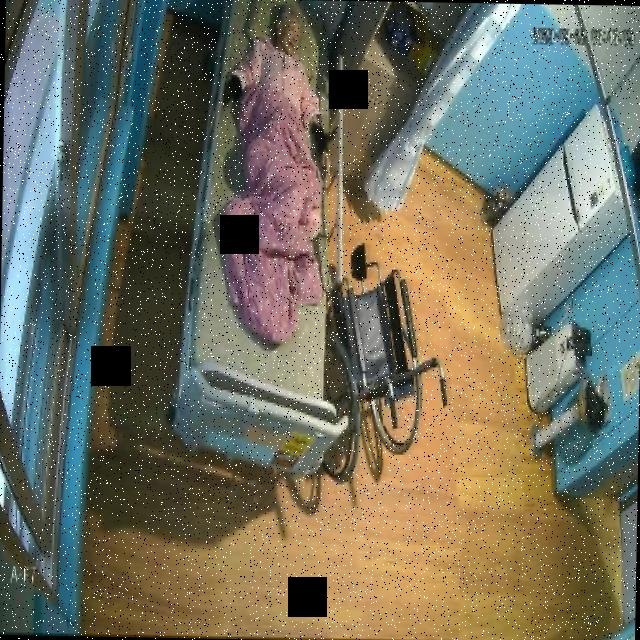bed: (175, 0, 341, 469)
lie: (215, 0, 330, 349)
patient: (221, 0, 336, 151)
